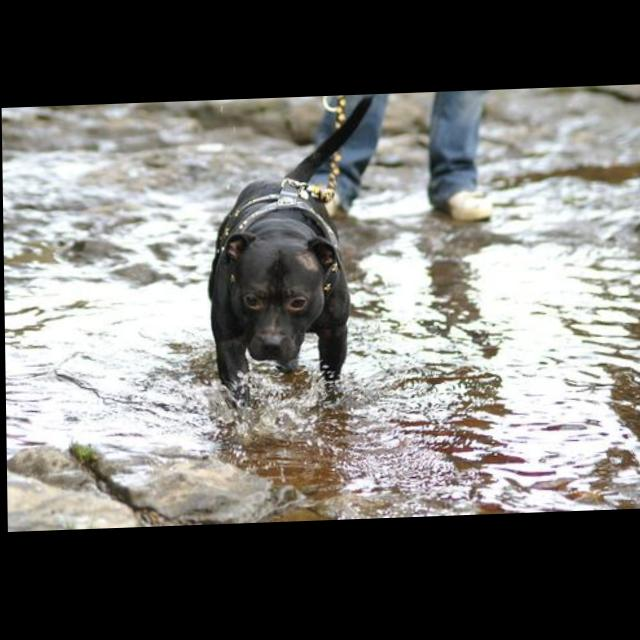staffford: (205, 98, 377, 411)
